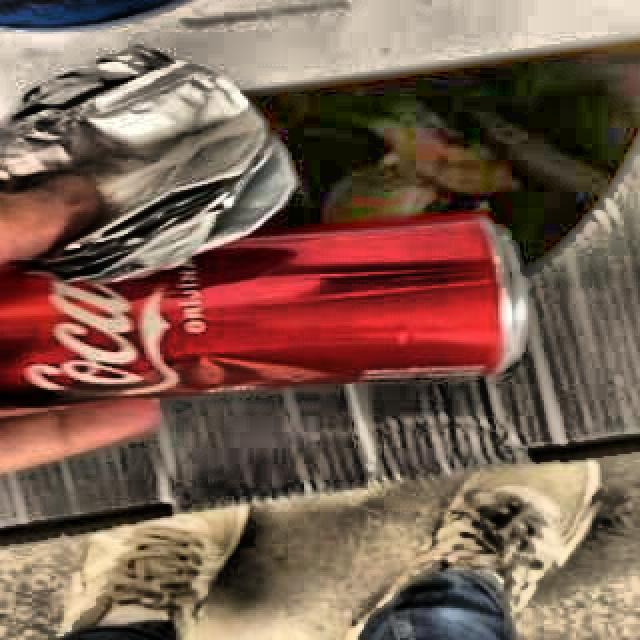metal: (0, 218, 528, 410)
